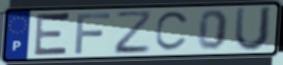0: (197, 8, 230, 53)
C: (153, 9, 192, 53)
E: (32, 11, 73, 58)
F: (73, 11, 112, 55)
U: (232, 5, 275, 53)
Z: (114, 9, 154, 56)
